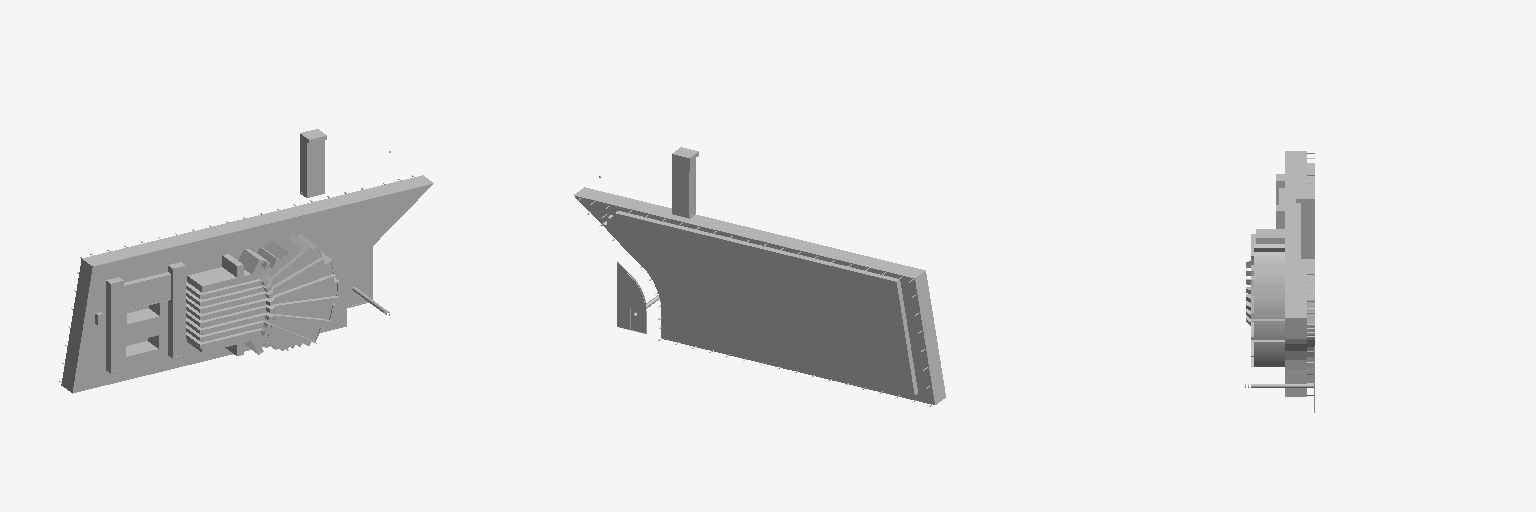
Rendered from griegNormal.obj.
The picture shows the model from 3 angles: view 1: azimuth 30°, elevation 25°; view 2: azimuth 150°, elevation 25°; view 3: azimuth 270°, elevation 25°; orthographic projection.
Visible parts, largest first — view 1: Component_4_1; view 2: Component_4_1; view 3: Component_4_1.
Part boxes in pixels (left/top/right/bottom): Component_4_1: left=59, top=129, right=433, bottom=393; Component_4_1: left=574, top=147, right=945, bottom=406; Component_4_1: left=1245, top=151, right=1314, bottom=412.
Size of the model in its own units: 160 by 80.8 by 26.5.